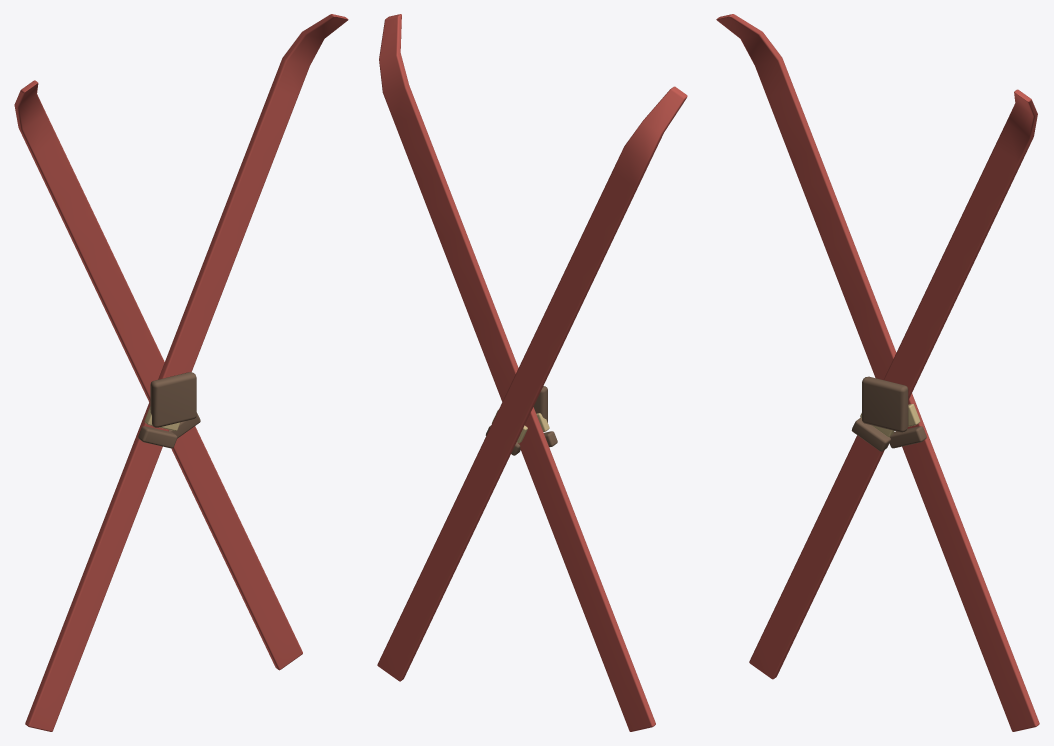
The model's file is lp_skis_crossed.glb.
The picture shows the model from 3 angles, left to right: view 1: azimuth 30°, elevation 25°; view 2: azimuth 150°, elevation 25°; view 3: azimuth 330°, elevation 25°; orthographic projection. The views are drawn at different scales.
Visible parts, largest first — view 1: lp_skis_crossed; view 2: lp_skis_crossed; view 3: lp_skis_crossed.
Part boxes in pixels (x1=…): lp_skis_crossed: x1=14, y1=14, x2=348, y2=731; lp_skis_crossed: x1=377, y1=14, x2=687, y2=731; lp_skis_crossed: x1=716, y1=14, x2=1039, y2=731.
Bounding box in the file's own units: 0.8826 × 1.77 × 0.148.
